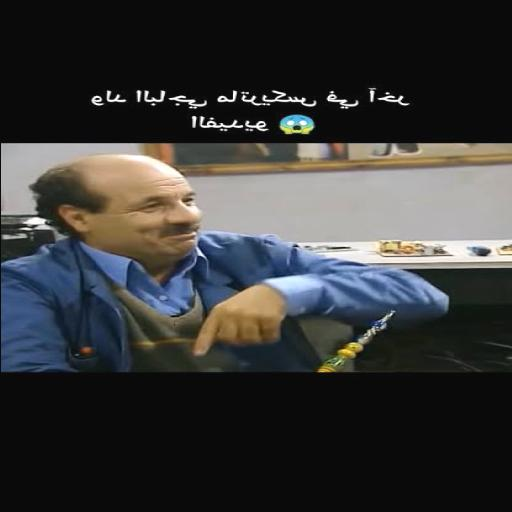beji_matrix: (31, 154, 200, 259)
